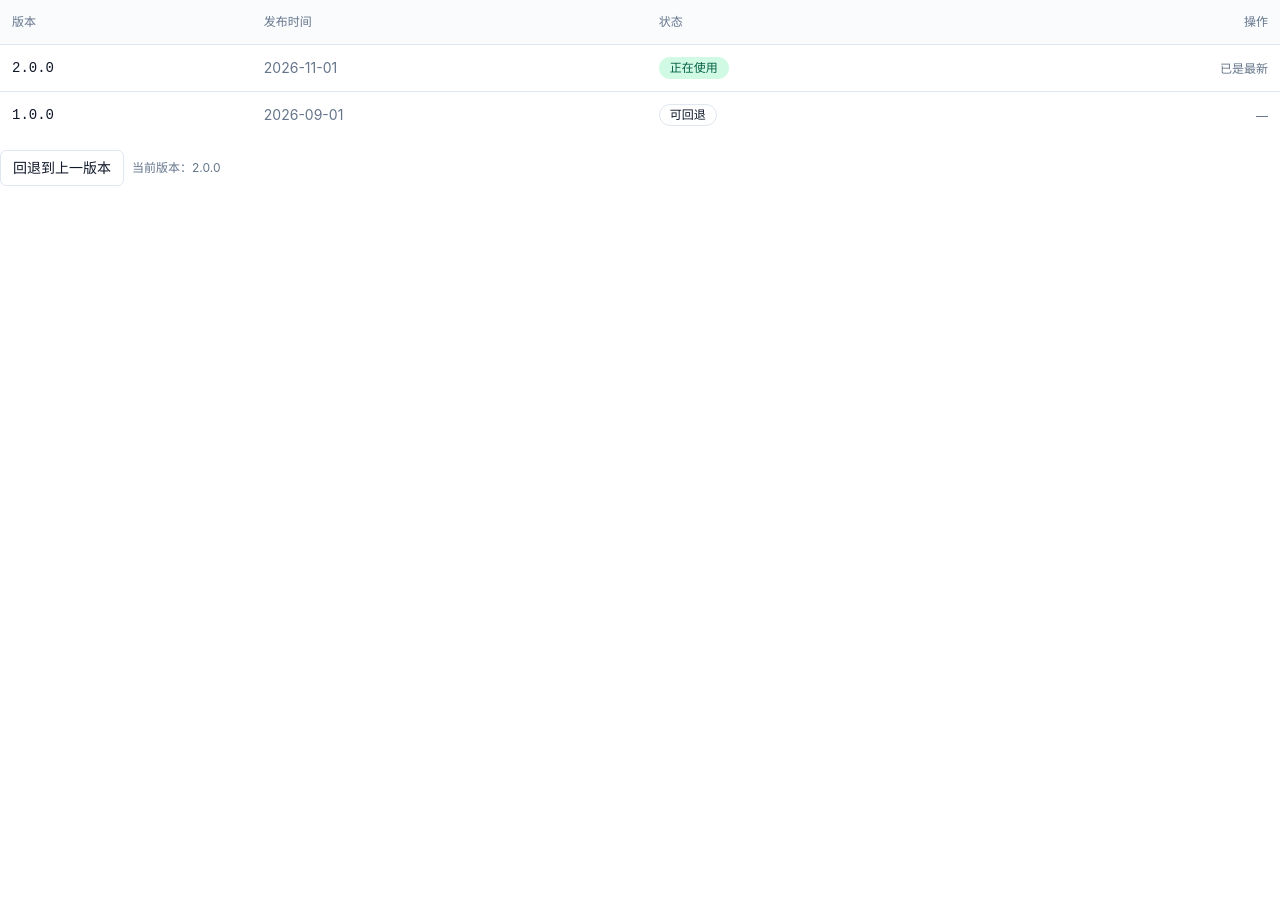
Test: VersionHistory › 回退走二次确认后才执行
This screenshot has width=1280, height=900.
Later steps or results of the test are not shown.
Click the button "回退到上一版本" at (62, 168), box top-left (0, 150), bottom-right (124, 186)
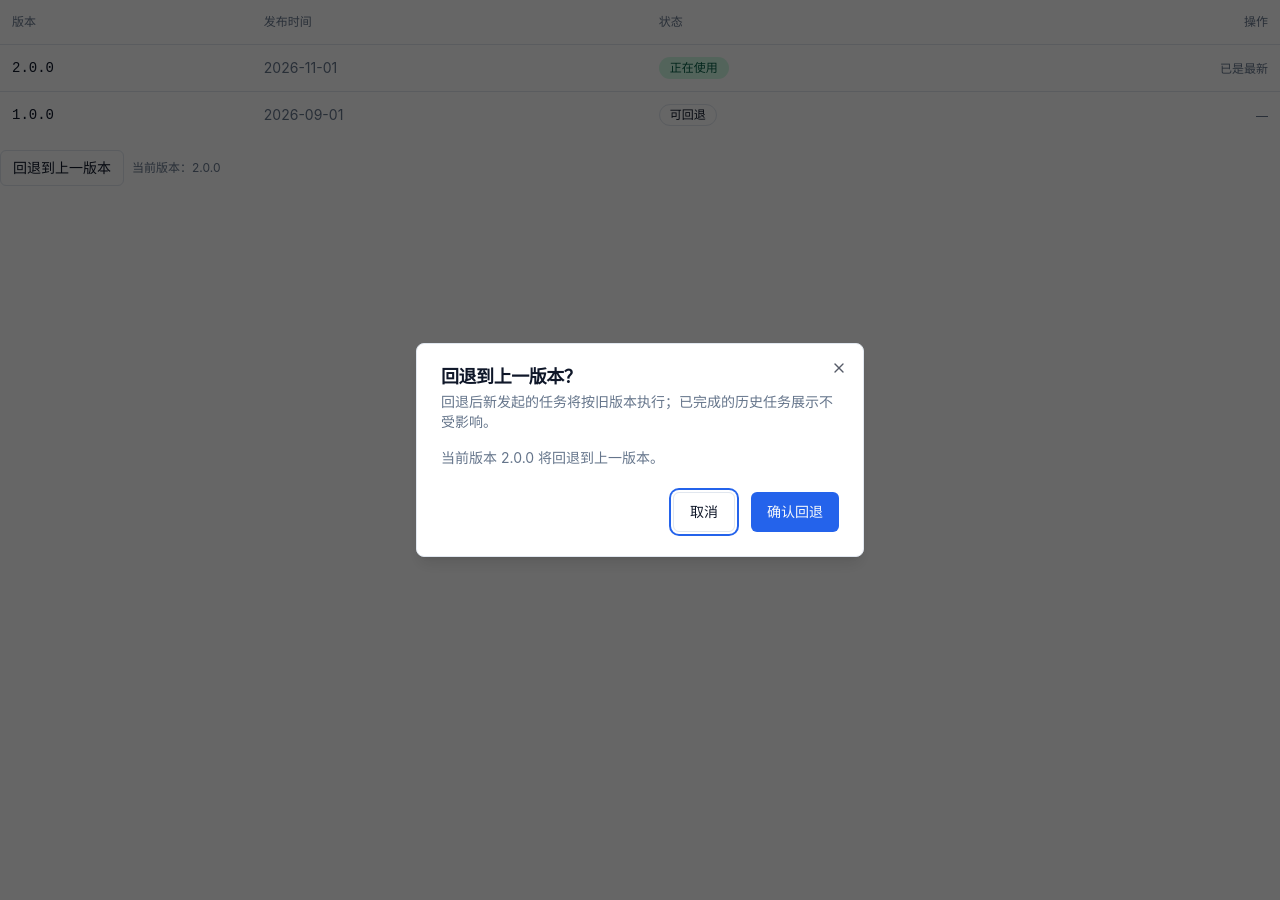
Expected: the text "回退到上一版本？" is shown, top-left (441, 368), bottom-right (581, 386)
